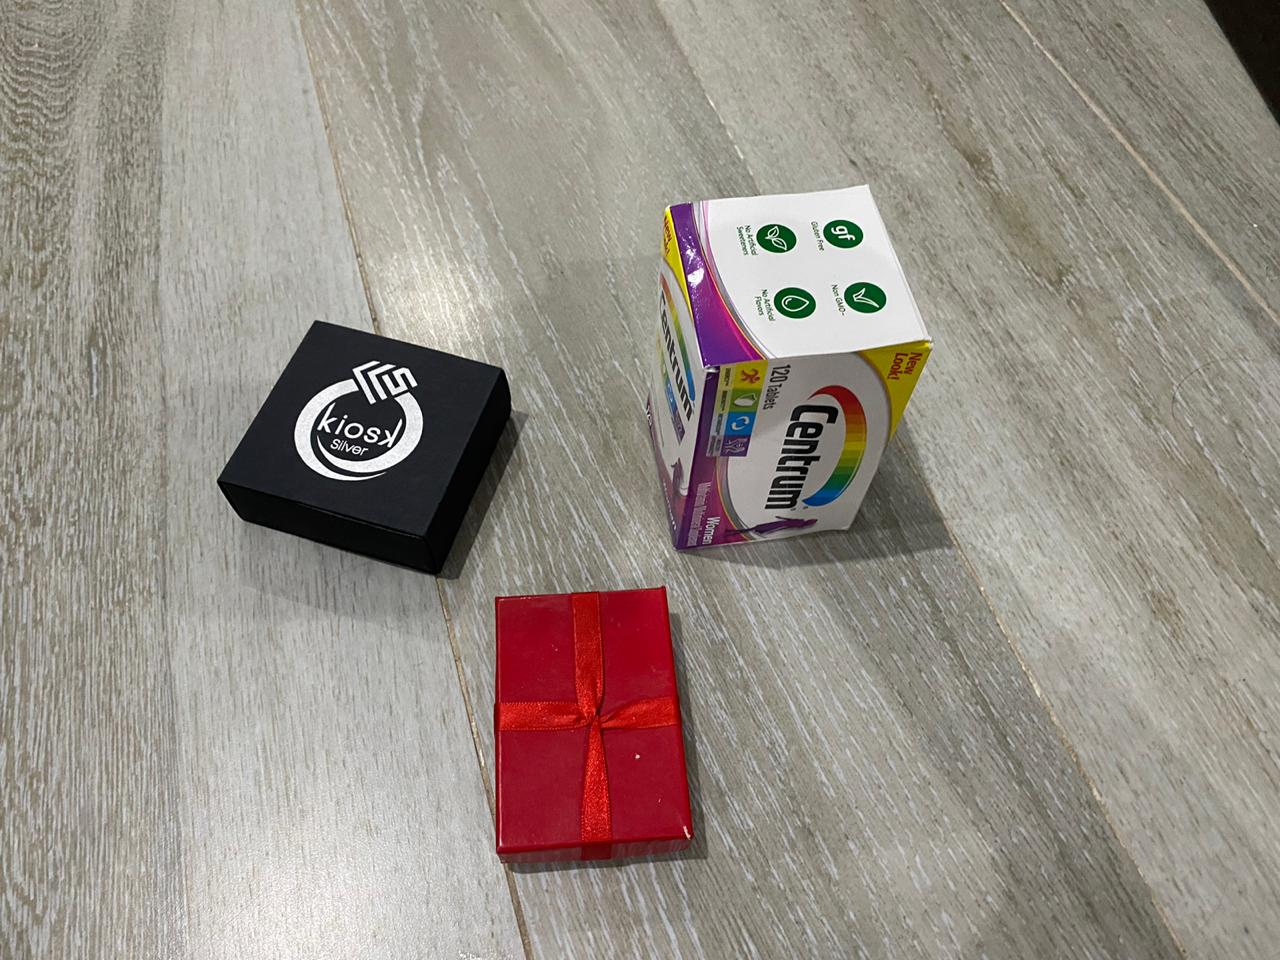Black Box: (488, 584, 699, 862)
Centrum: (639, 181, 938, 560)
Red Box: (214, 321, 509, 577)
